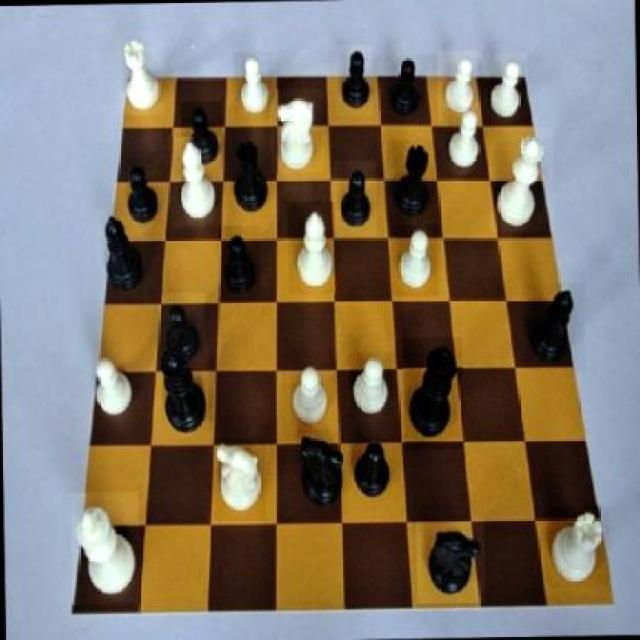bishop: (522, 283, 586, 372), (96, 208, 146, 300)
black-bishop: (403, 337, 464, 450)
black-king: (416, 520, 486, 604), (294, 429, 346, 516)
black-knight: (348, 432, 398, 506), (159, 294, 206, 369), (334, 160, 377, 236), (217, 225, 260, 300), (120, 155, 162, 228), (180, 101, 223, 170), (383, 54, 426, 118), (336, 45, 374, 117)
black-pawn: (153, 342, 210, 441)
black-queen: (386, 138, 439, 222), (228, 130, 272, 216)
black-rook: (168, 137, 222, 228), (286, 202, 336, 294)
white-bishop: (69, 492, 139, 606)
white-king: (269, 89, 325, 173), (212, 438, 266, 521)
white-knight: (88, 337, 137, 426), (392, 223, 440, 296), (286, 358, 332, 434), (485, 52, 529, 121), (437, 49, 479, 119), (348, 352, 392, 417), (443, 108, 486, 174), (234, 51, 274, 120)
white-pawn: (488, 128, 554, 232)
white-queen: (545, 505, 609, 587), (116, 30, 164, 114)
